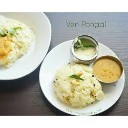venpongal: (55, 63, 98, 105), (1, 18, 28, 57)
